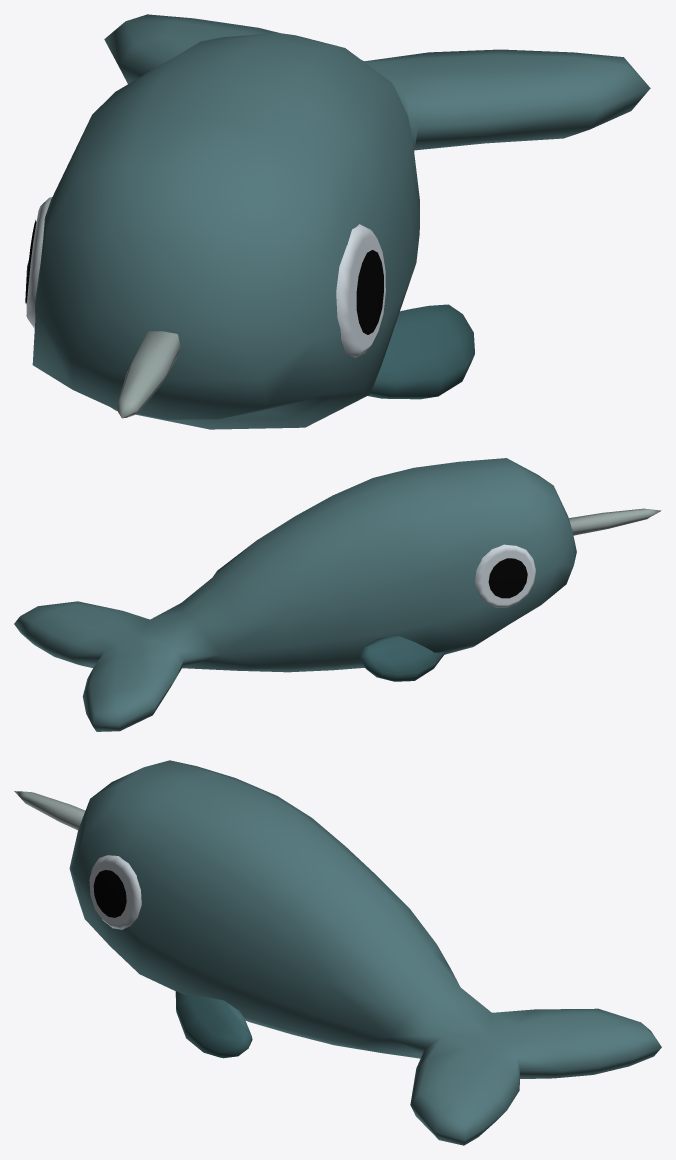
File: Narwhal.glb
3 views of the same model, one above another, from view 1: azimuth 30°, elevation 25°; view 2: azimuth 150°, elevation 25°; view 3: azimuth 270°, elevation 25° (orthographic). The views are drawn at different scales.
Parts seen in each view (by area): view 1: 108; view 2: 108; view 3: 108.
Boxes of the visible parts, box(x1,y1,x2,y2) form: 108: box(25, 14, 650, 429); 108: box(14, 458, 661, 731); 108: box(14, 760, 661, 1145).
Bounding box in the file's own units: 1.29 × 0.468 × 1.38.
